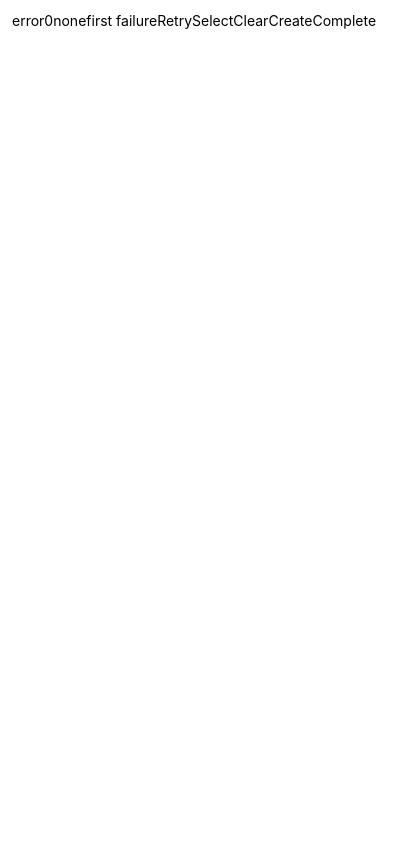
Scenario: ApplicationSessionProvider › retries bootstrap after an error
Expected: the text with test id "status" reads "error", [12,12,44,29]
Click the button "Retry". click: (175,434)
box: [157,12,192,855]
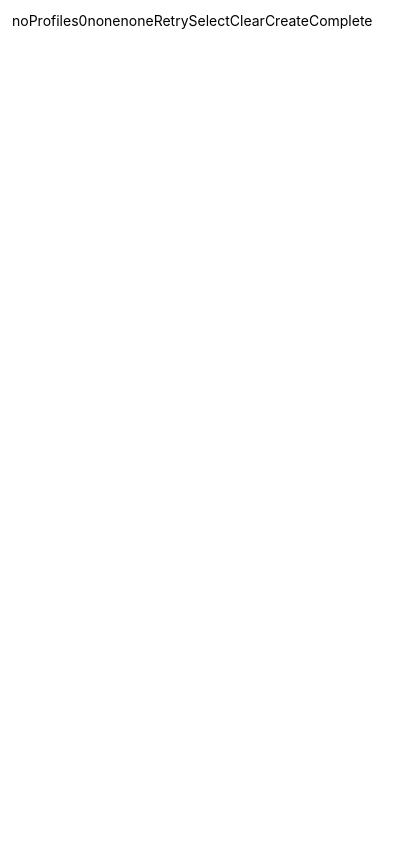
Expected: the text with test id "status" reads "noProfiles", [12,12,79,29]
